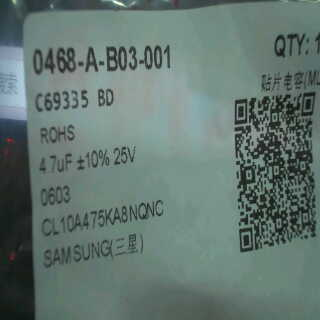4.7uF: (38, 151, 75, 178)
